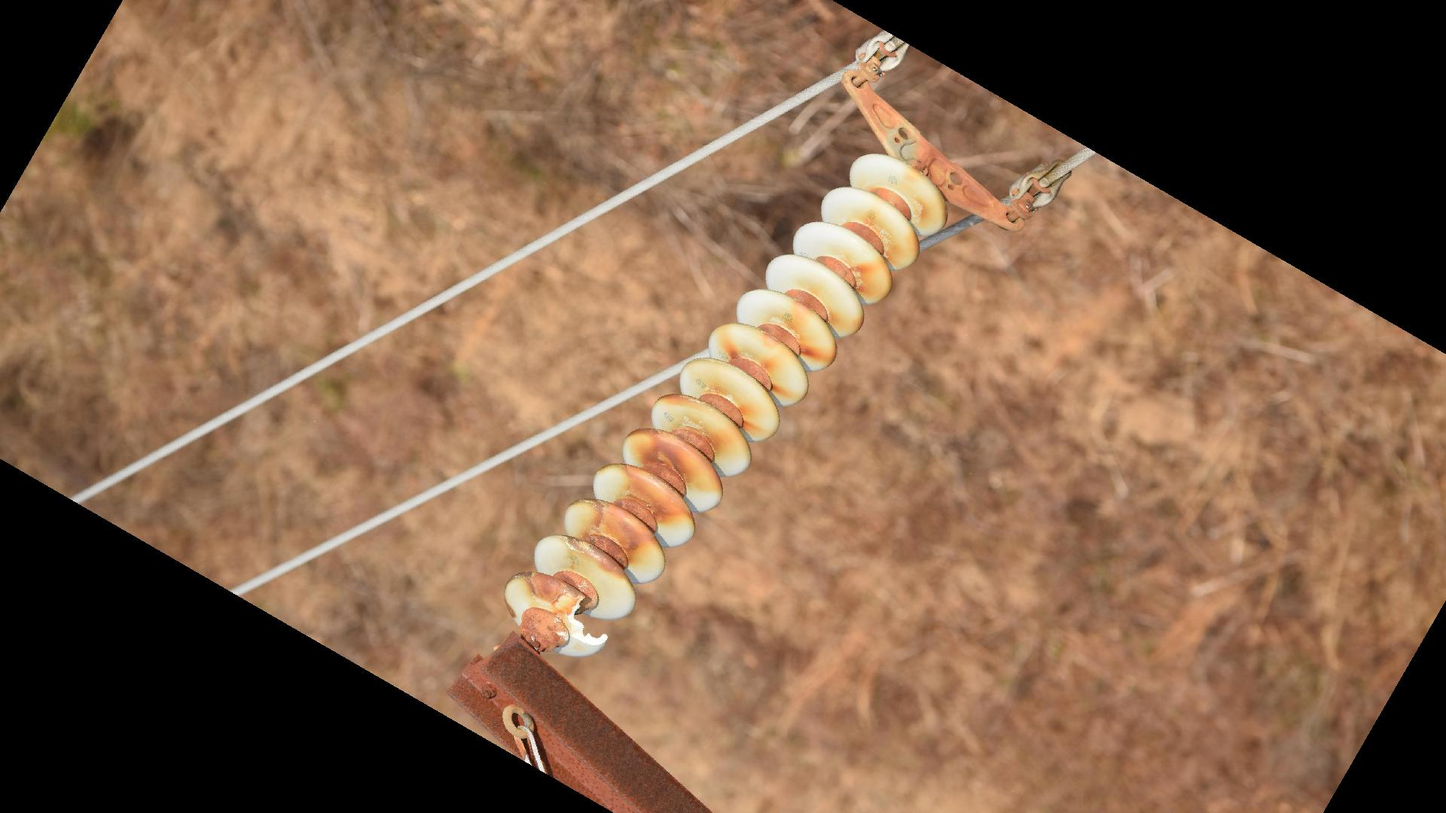insulator: (499, 147, 951, 668)
insulator_breakage: (564, 586, 613, 650)
